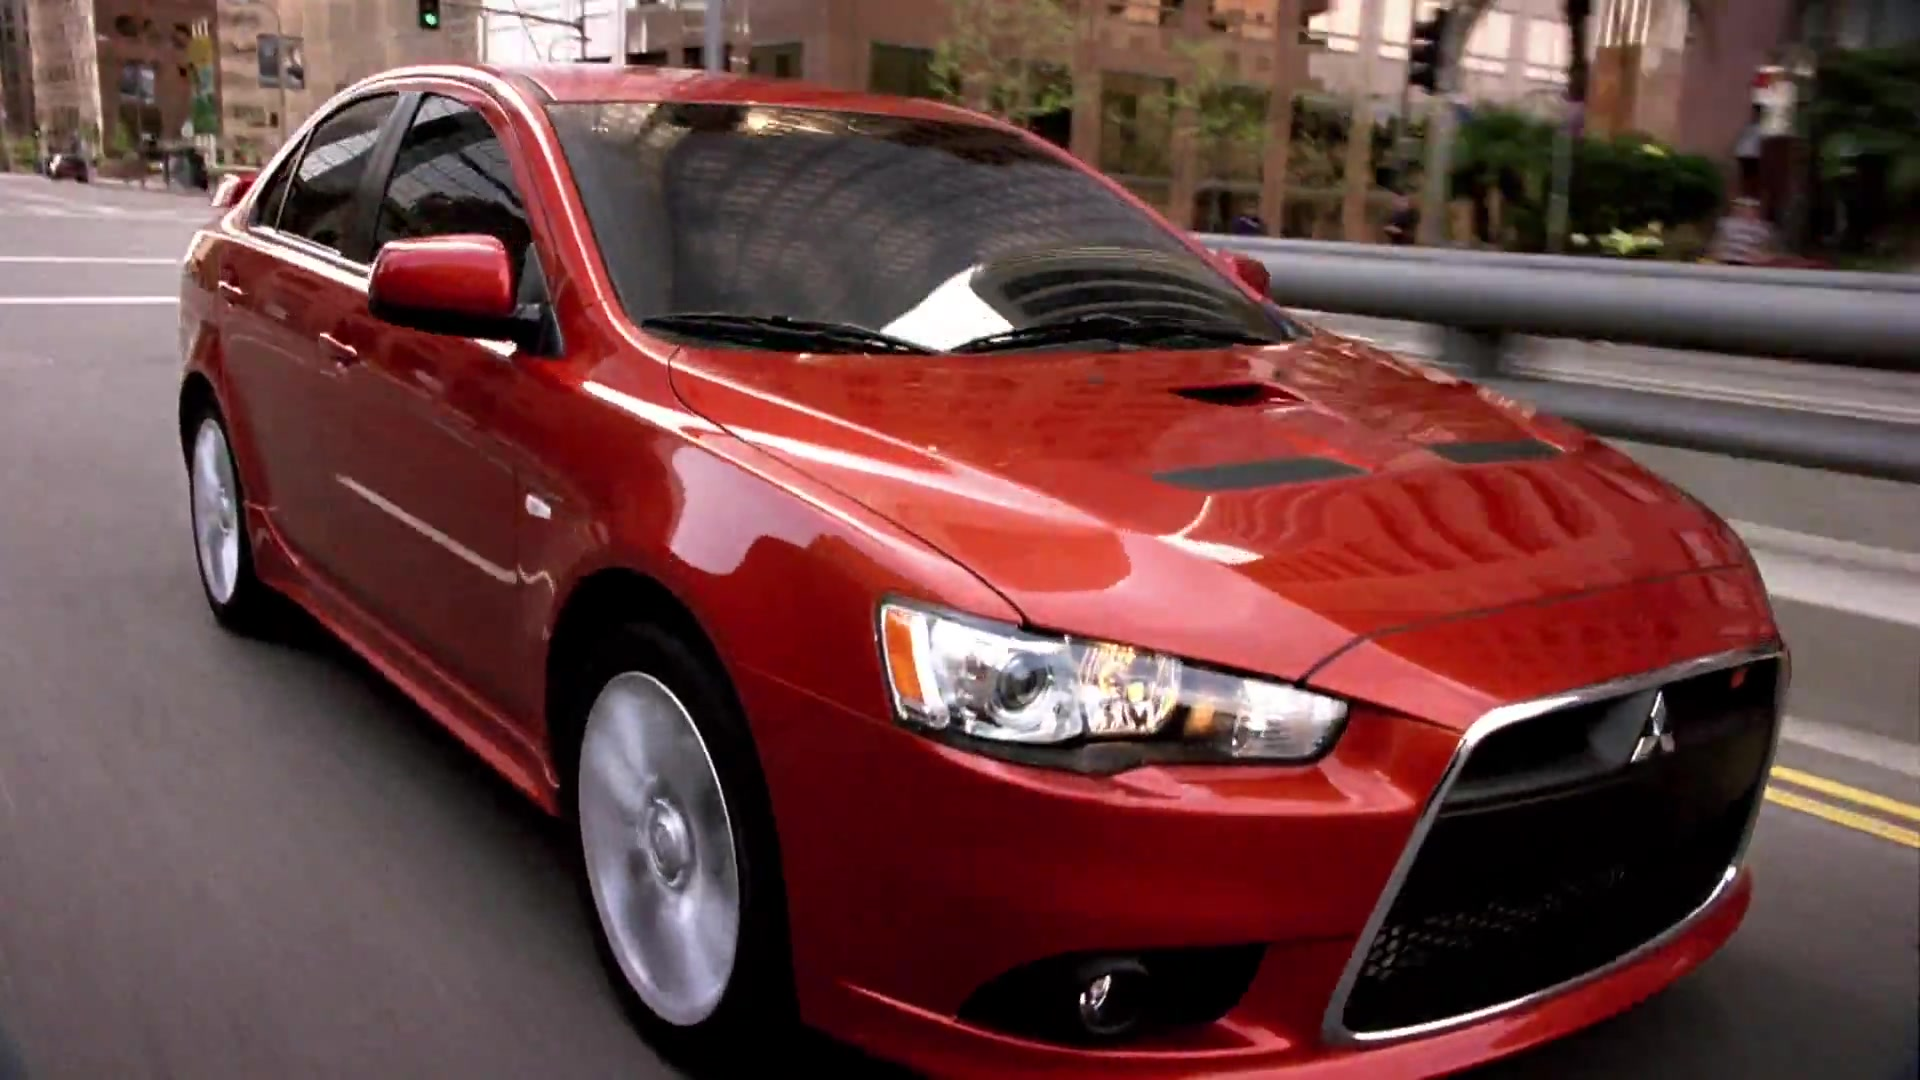car: (171, 55, 1795, 1080)
